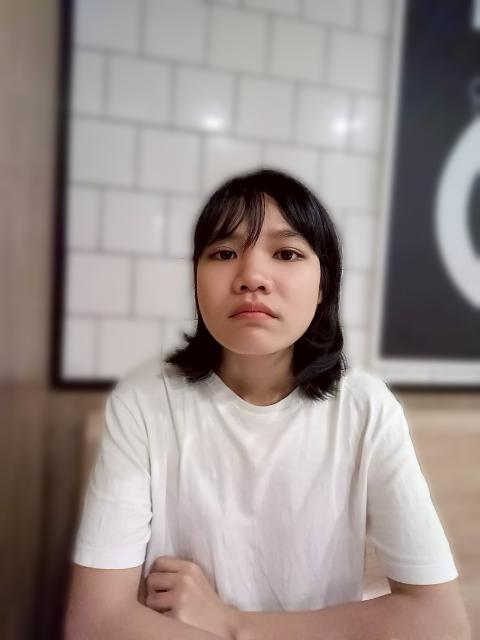fokus: (193, 173, 337, 360)
